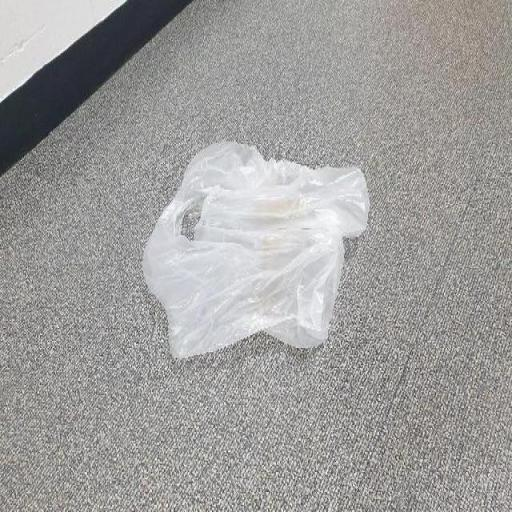plastic-bag: (137, 139, 370, 360)
